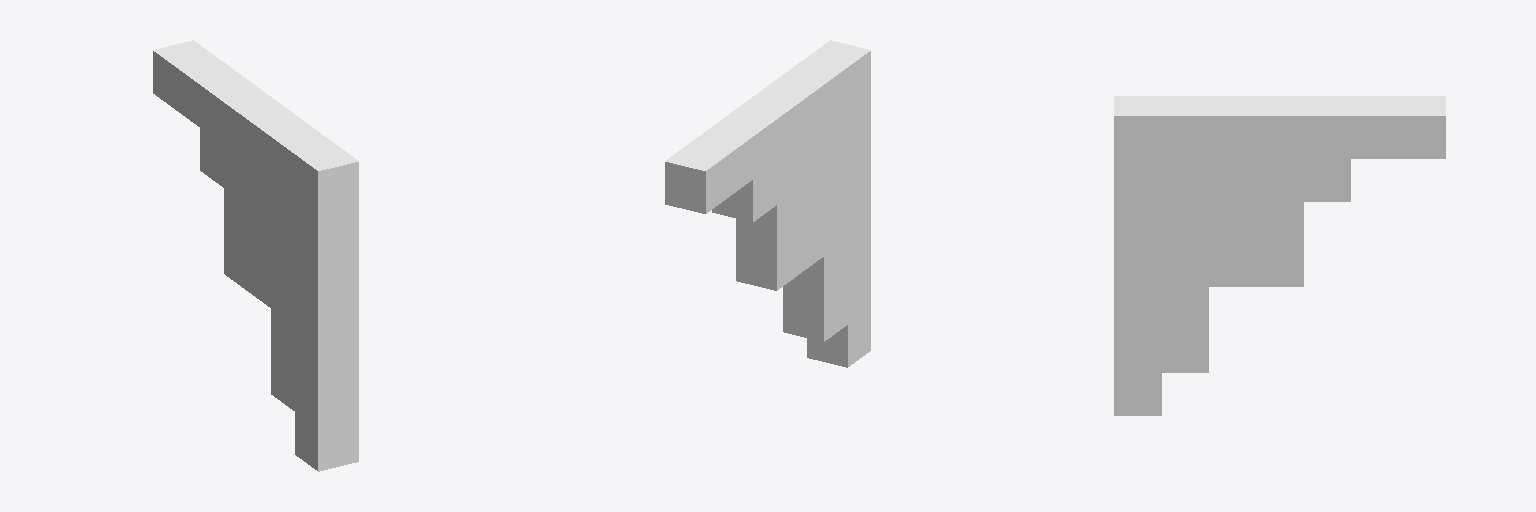
Rendered from YellowHouseParts-19.obj.
The picture shows the model from 3 angles: view 1: azimuth 30°, elevation 25°; view 2: azimuth 150°, elevation 25°; view 3: azimuth 270°, elevation 25°; orthographic projection.
Parts seen in each view (by area): view 1: object 1; view 2: object 1; view 3: object 1.
Part boxes in pixels (x1,y1,x2,y2): object 1: (153,40,358,471); object 1: (665,40,870,367); object 1: (1114,96,1445,415).
Size of the model in its own units: 0.1 by 0.7 by 0.7.